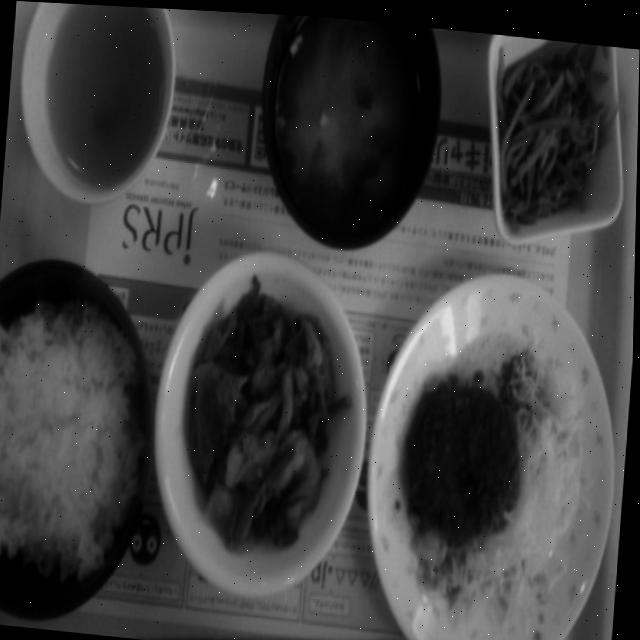炸货点心: (392, 356, 536, 555)
米饭主食: (0, 239, 182, 608)
